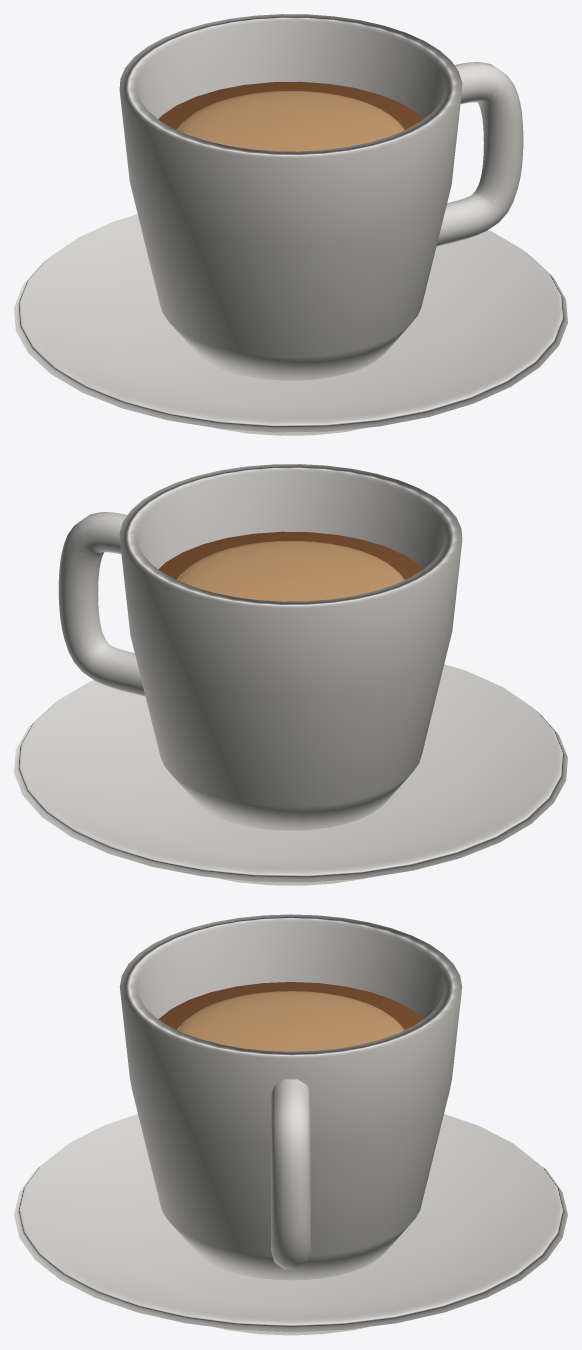
Rendered from alba-ginseng-orzo.glb.
3 renders of one model, top to bottom at view 1: azimuth 30°, elevation 25°; view 2: azimuth 150°, elevation 25°; view 3: azimuth 270°, elevation 25°, orthographic.
Bounding box in the file's own units: 0.11 × 0.061 × 0.11.
